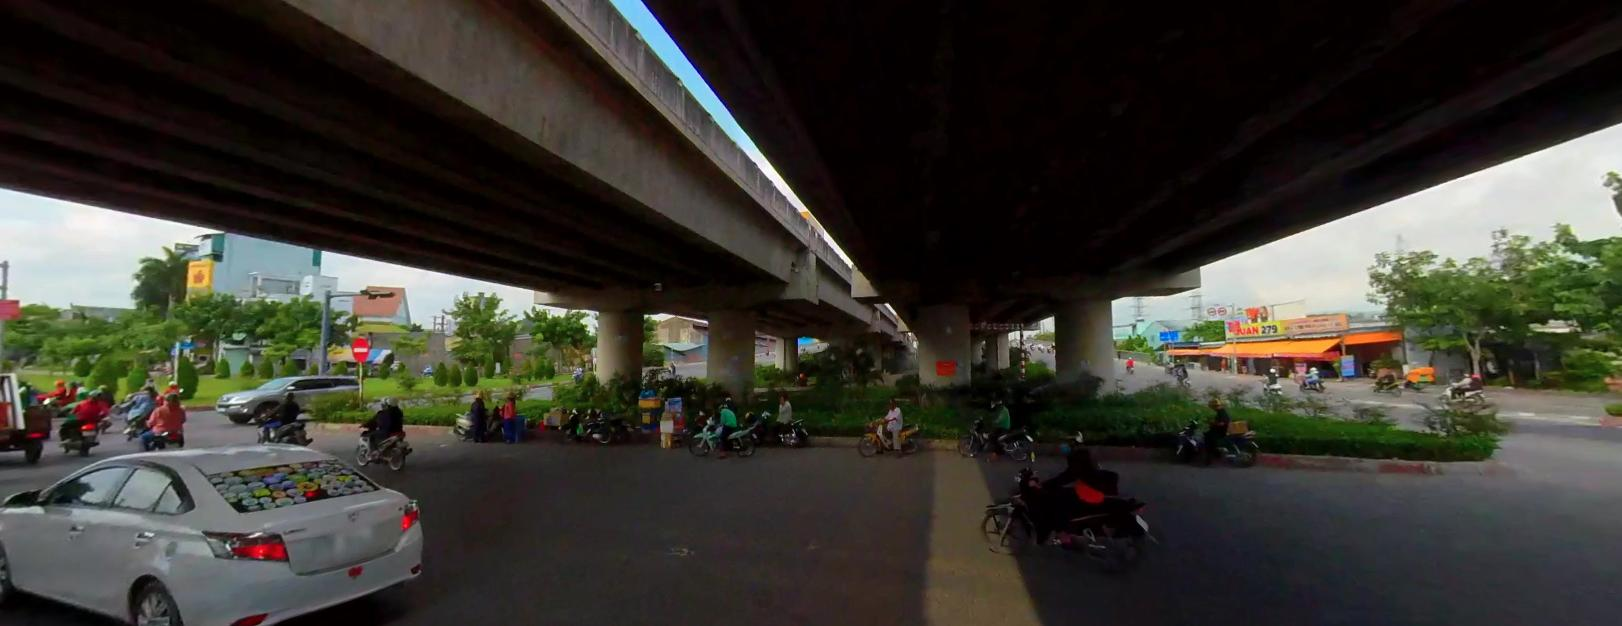Cam nguoc chieu: (350, 334, 370, 363)
